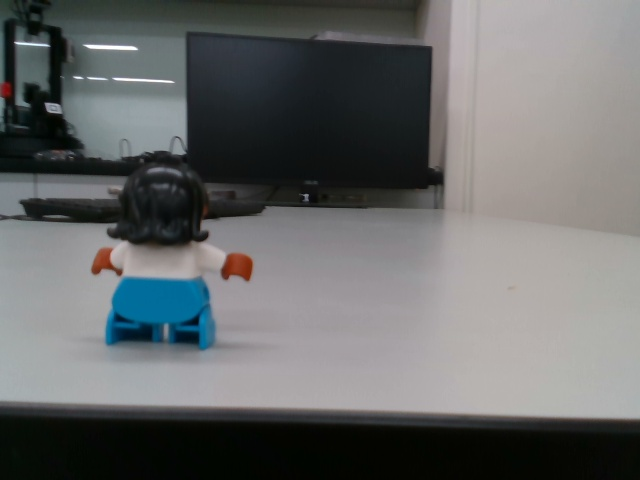people: (88, 158, 254, 352)
